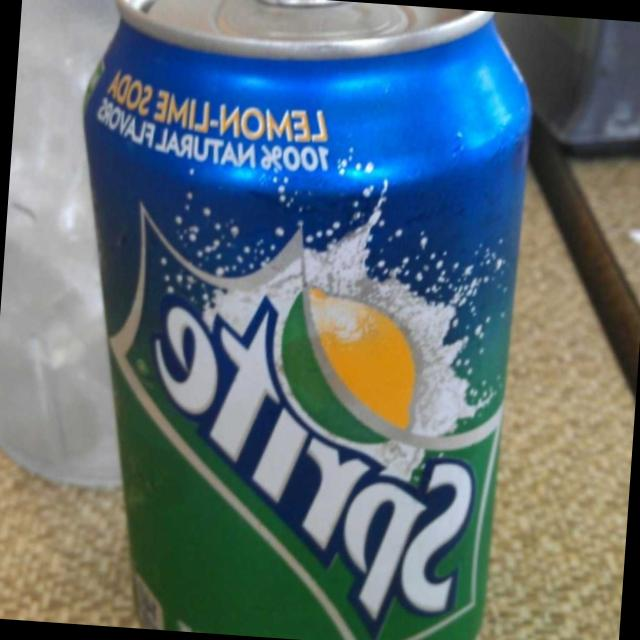sprite: (99, 0, 563, 640)
